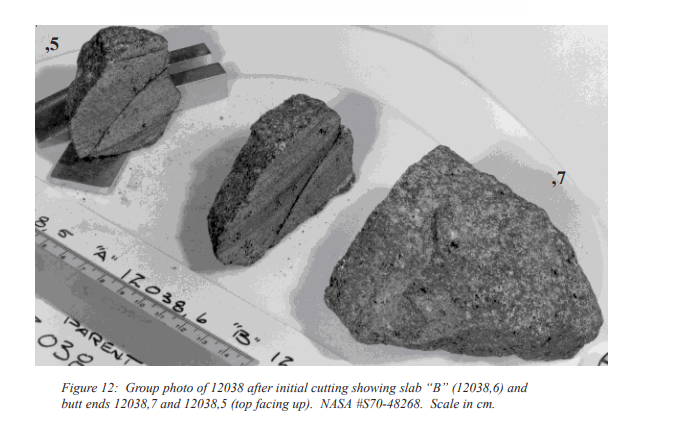Basalt: (362, 142, 591, 367), (200, 75, 361, 249), (60, 41, 202, 162)
